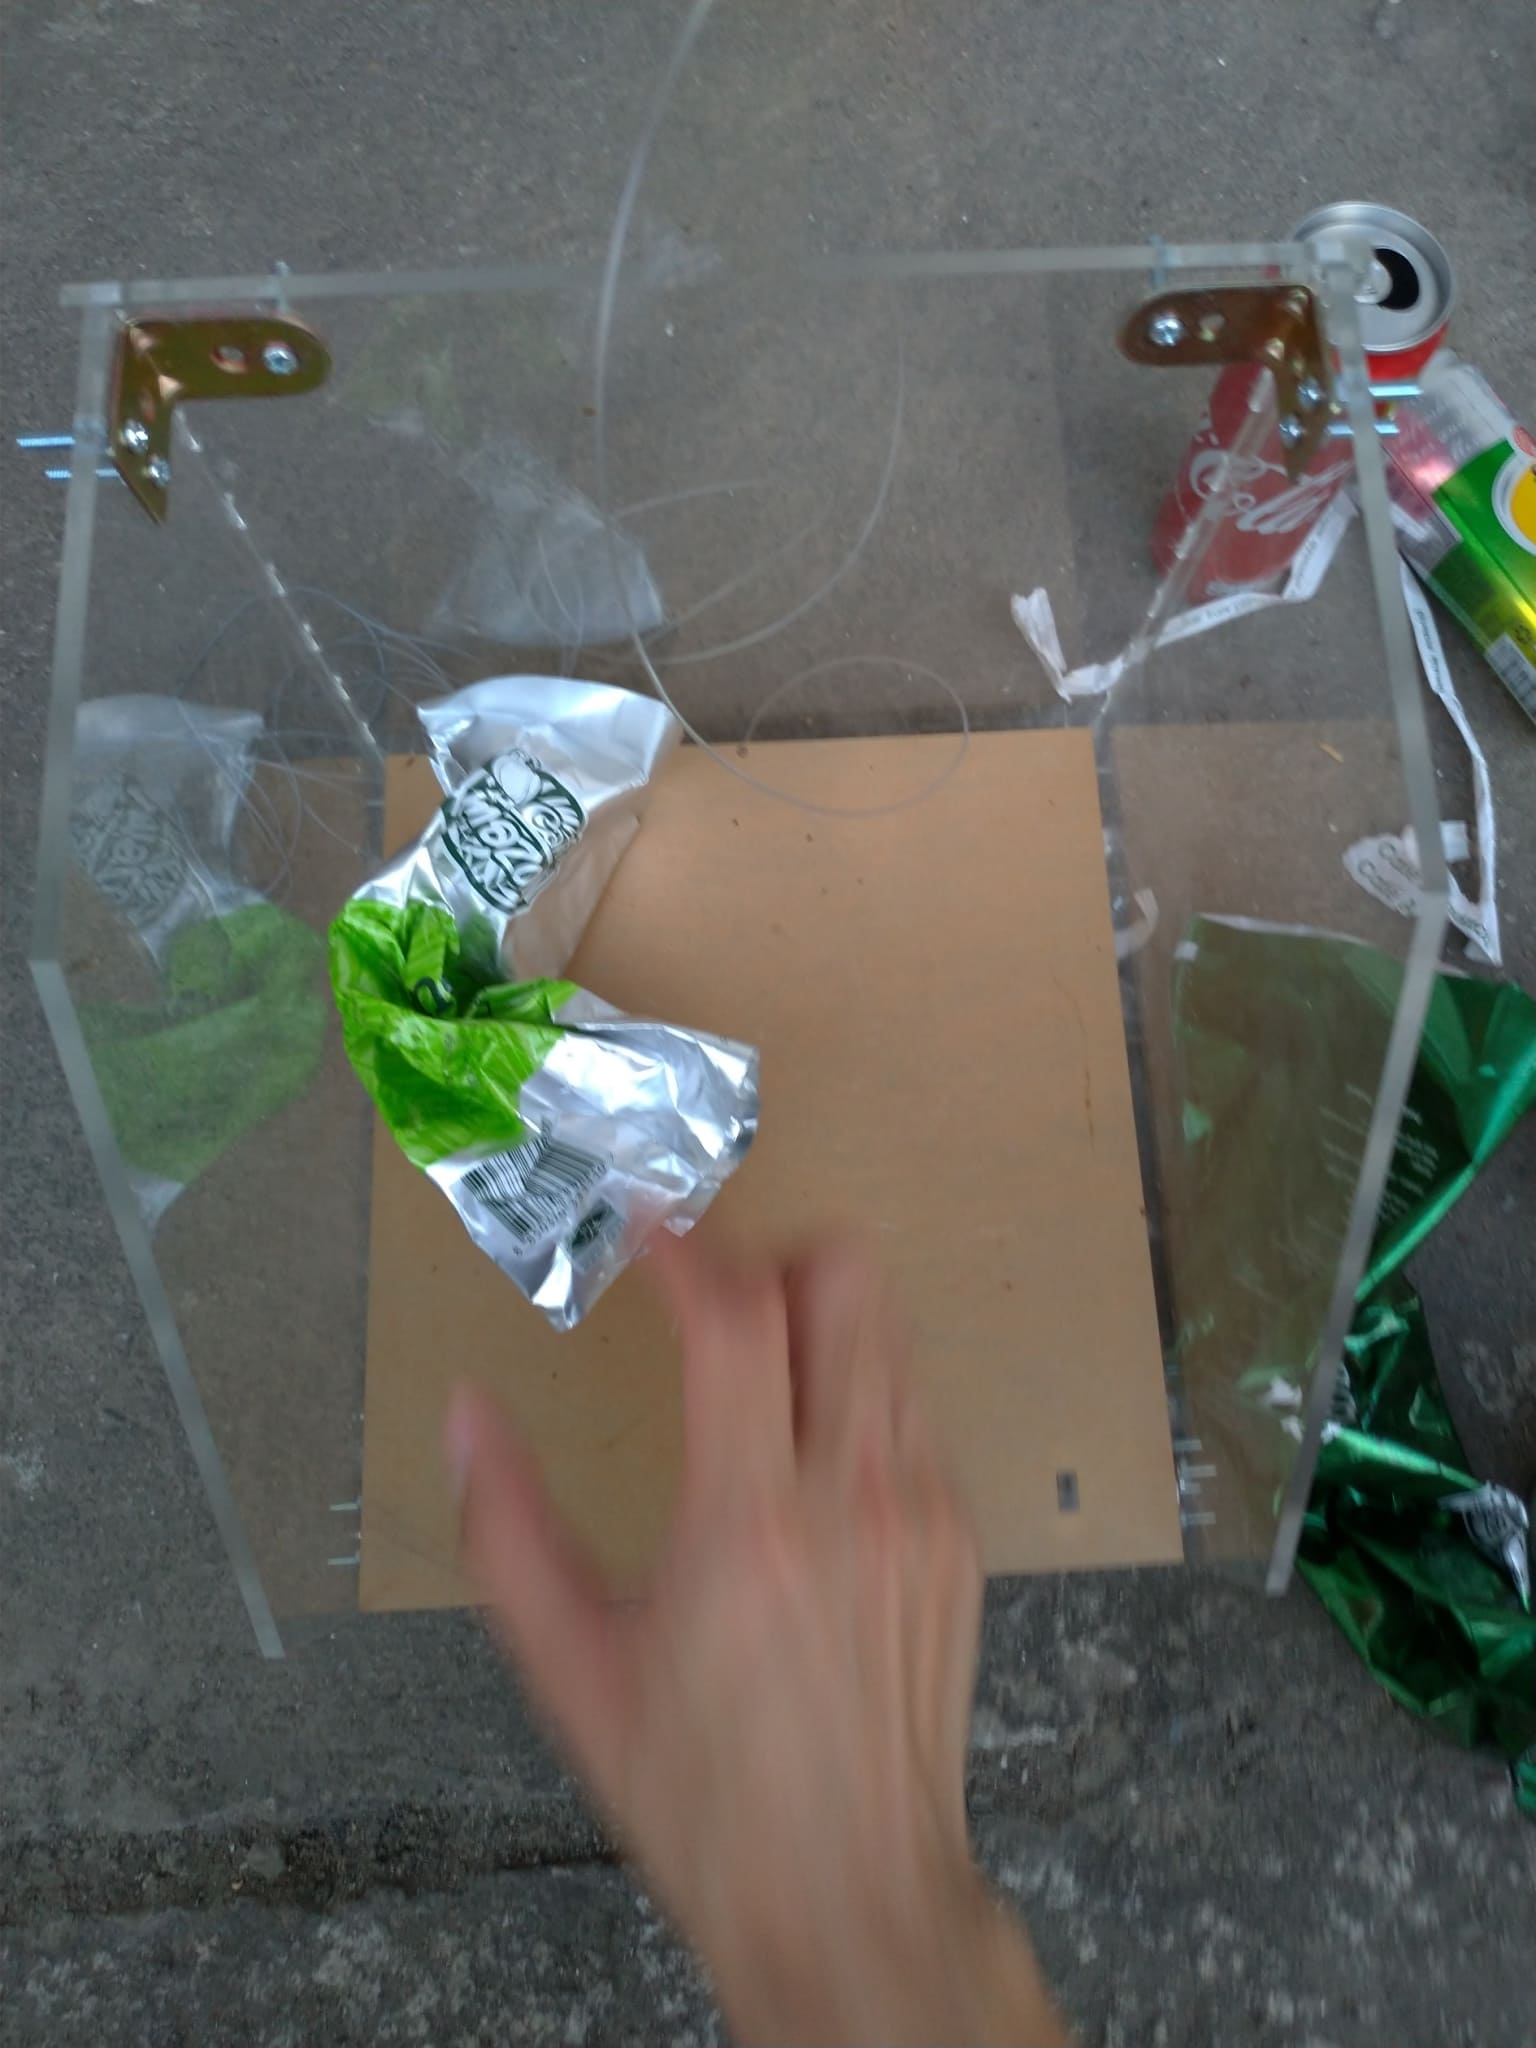AlCan: (1162, 194, 1459, 606), (1376, 335, 1536, 708)
Others: (1167, 913, 1536, 1804), (323, 674, 753, 1335), (1007, 513, 1362, 700), (1342, 552, 1504, 945)
